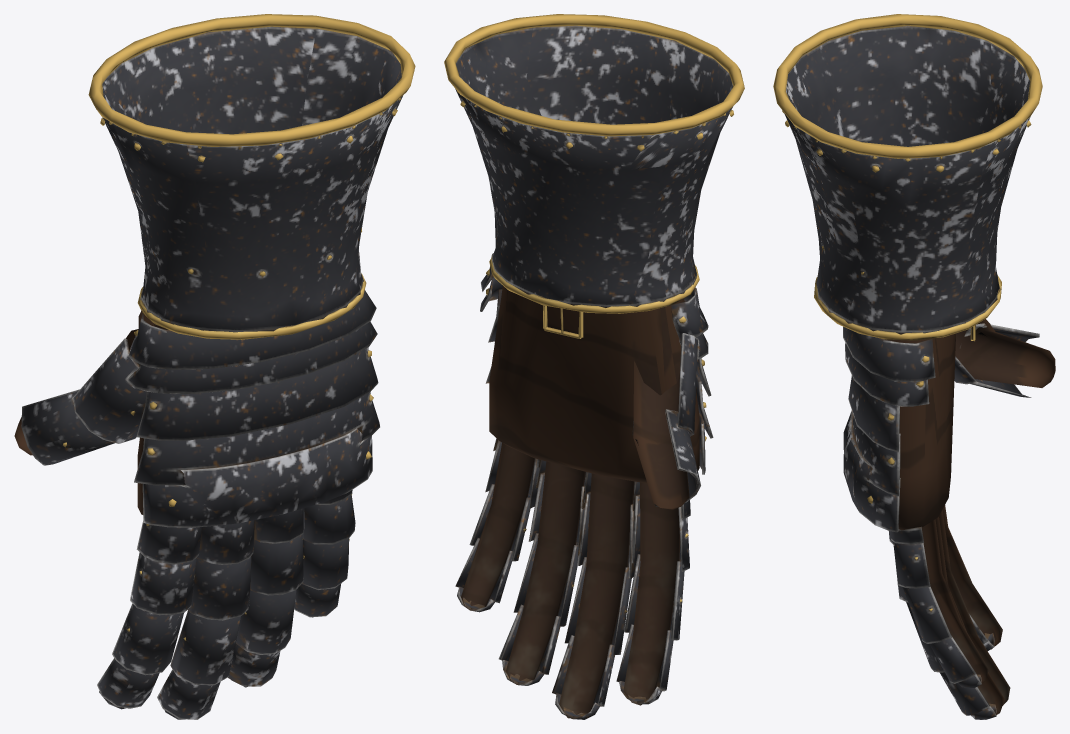
File: SM_EagleGauntlets_R_LOD2.fbx
The picture shows the model from 3 angles, left to right: view 1: azimuth 30°, elevation 25°; view 2: azimuth 150°, elevation 25°; view 3: azimuth 270°, elevation 25°; orthographic projection. The views are drawn at different scales.
Visible parts, largest first — view 1: SM_EagleGauntlets_R_LOD2; view 2: SM_EagleGauntlets_R_LOD2; view 3: SM_EagleGauntlets_R_LOD2.
Boxes of the visible parts, box(x1,y1,x2,y2) form: SM_EagleGauntlets_R_LOD2: box(14, 14, 415, 719); SM_EagleGauntlets_R_LOD2: box(444, 14, 744, 719); SM_EagleGauntlets_R_LOD2: box(773, 14, 1055, 719).
Size of the model in its own units: 0.1481 by 0.2966 by 0.1189.
